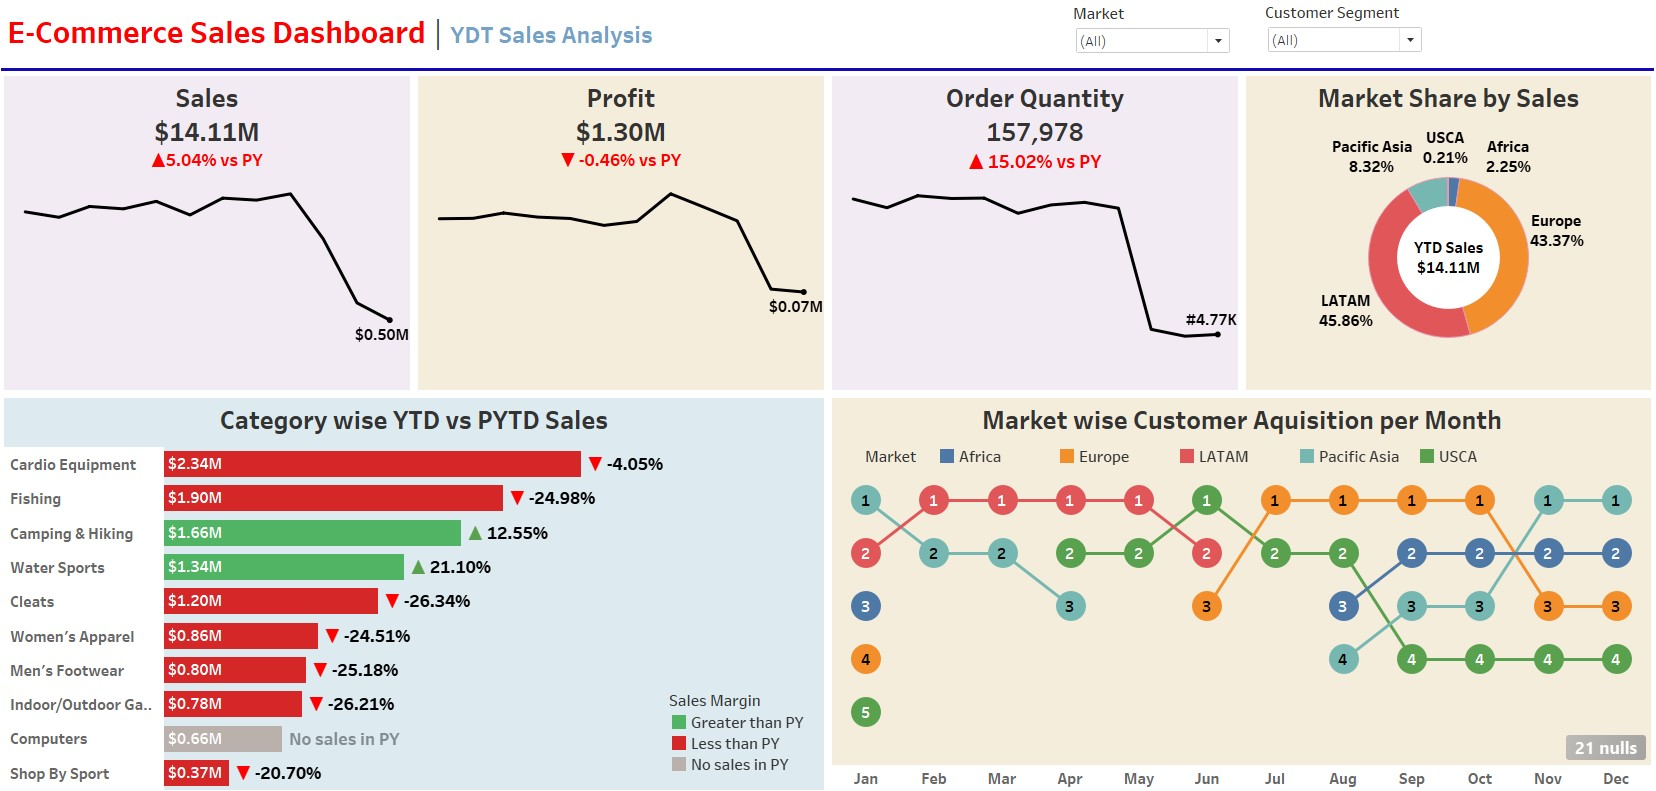

The page's visual inventory and layout, read from the dashboard file:
{"tool":"tableau","page":{"name":"Dashboard 1","canvas":[1000,1000],"units":"permille","ordinal":0},"visuals":[{"type":"title","box":[0.6,1.2,998.8,89.9]},{"type":"filter","title":"Category wise YTD vs PYTD Sales","param":"[federated.1th2sxe1x26scz18i1wto02pw21k].[none:Customer Segment:nk]","box":[764,10,96.6,66.2]},{"type":"filter","title":"Category wise YTD vs PYTD Sales","param":"[federated.1th2sxe1x26scz18i1wto02pw21k].[none:Market:nk]","box":[648.2,11.2,96.6,66.2]},{"type":"blank","box":[0.6,91.1,998.8,6.2]},{"type":"worksheet","title":"Sales KPI","mark":"Automatic","rows":["Sales"],"cols":["Order Date"],"box":[0.6,97.4,249.8,402]},{"type":"worksheet","title":"Profit KPI","mark":"Automatic","rows":["Profit Per Order"],"cols":["Order Date"],"box":[250.5,97.4,249.8,402]},{"type":"worksheet","title":"Order Quantity KPI","mark":"Automatic","rows":["Order Quantity"],"cols":["Order Date"],"box":[500.3,97.4,249.8,402]},{"type":"worksheet","title":"Market Share by sales","mark":"Pie","cols":["Calculation_1400056587059159058","Calculation_1400056587059175444"],"box":[750.1,97.4,249.2,402]},{"type":"worksheet","title":"Category wise YTD vs PYTD Sales","mark":"Bar","rows":["Category Name"],"cols":["Calculation_1400056587059937301","Calculation_1400056587059937301"],"box":[0.6,499.4,499.4,499.4]},{"type":"worksheet","title":"Market wise Customer Aquisition per Month","mark":"Automatic","cols":["Order Date"],"box":[500,499.4,499.4,499.4]},{"type":"legend","title":"Market wise Customer Aquisition per Month","param":"[federated.1th2sxe1x26scz18i1wto02pw21k].[none:Market:nk]","box":[522.6,564.3,438.7,31.2]},{"type":"legend","title":"Category wise YTD vs PYTD Sales","param":"[federated.1th2sxe1x26scz18i1wto02pw21k].[usr:Calculation_1400056587274645529:nk","box":[404.4,868.9,84.5,106.1]}]}

Visuals, with their boxes on the dashboard's canvas, which has no fixed pixel size, in thousandths of its width and height (x1, y1, x2, y2). These are canvas units, not pixel positions in the 1656x791 screenshot, which may show the page scaled, cropped or inside an application window:
title: 1, 1, 999, 91
"Category wise YTD vs PYTD Sales" filter: 764, 10, 861, 76
"Category wise YTD vs PYTD Sales" filter: 648, 11, 745, 77
blank: 1, 91, 999, 97
"Sales KPI" worksheet: 1, 97, 250, 499
"Profit KPI" worksheet: 250, 97, 500, 499
"Order Quantity KPI" worksheet: 500, 97, 750, 499
"Market Share by sales" worksheet (Pie marks): 750, 97, 999, 499
"Category wise YTD vs PYTD Sales" worksheet (Bar marks): 1, 499, 500, 999
"Market wise Customer Aquisition per Month" worksheet: 500, 499, 999, 999
"Market wise Customer Aquisition per Month" legend: 523, 564, 961, 596
"Category wise YTD vs PYTD Sales" legend: 404, 869, 489, 975
